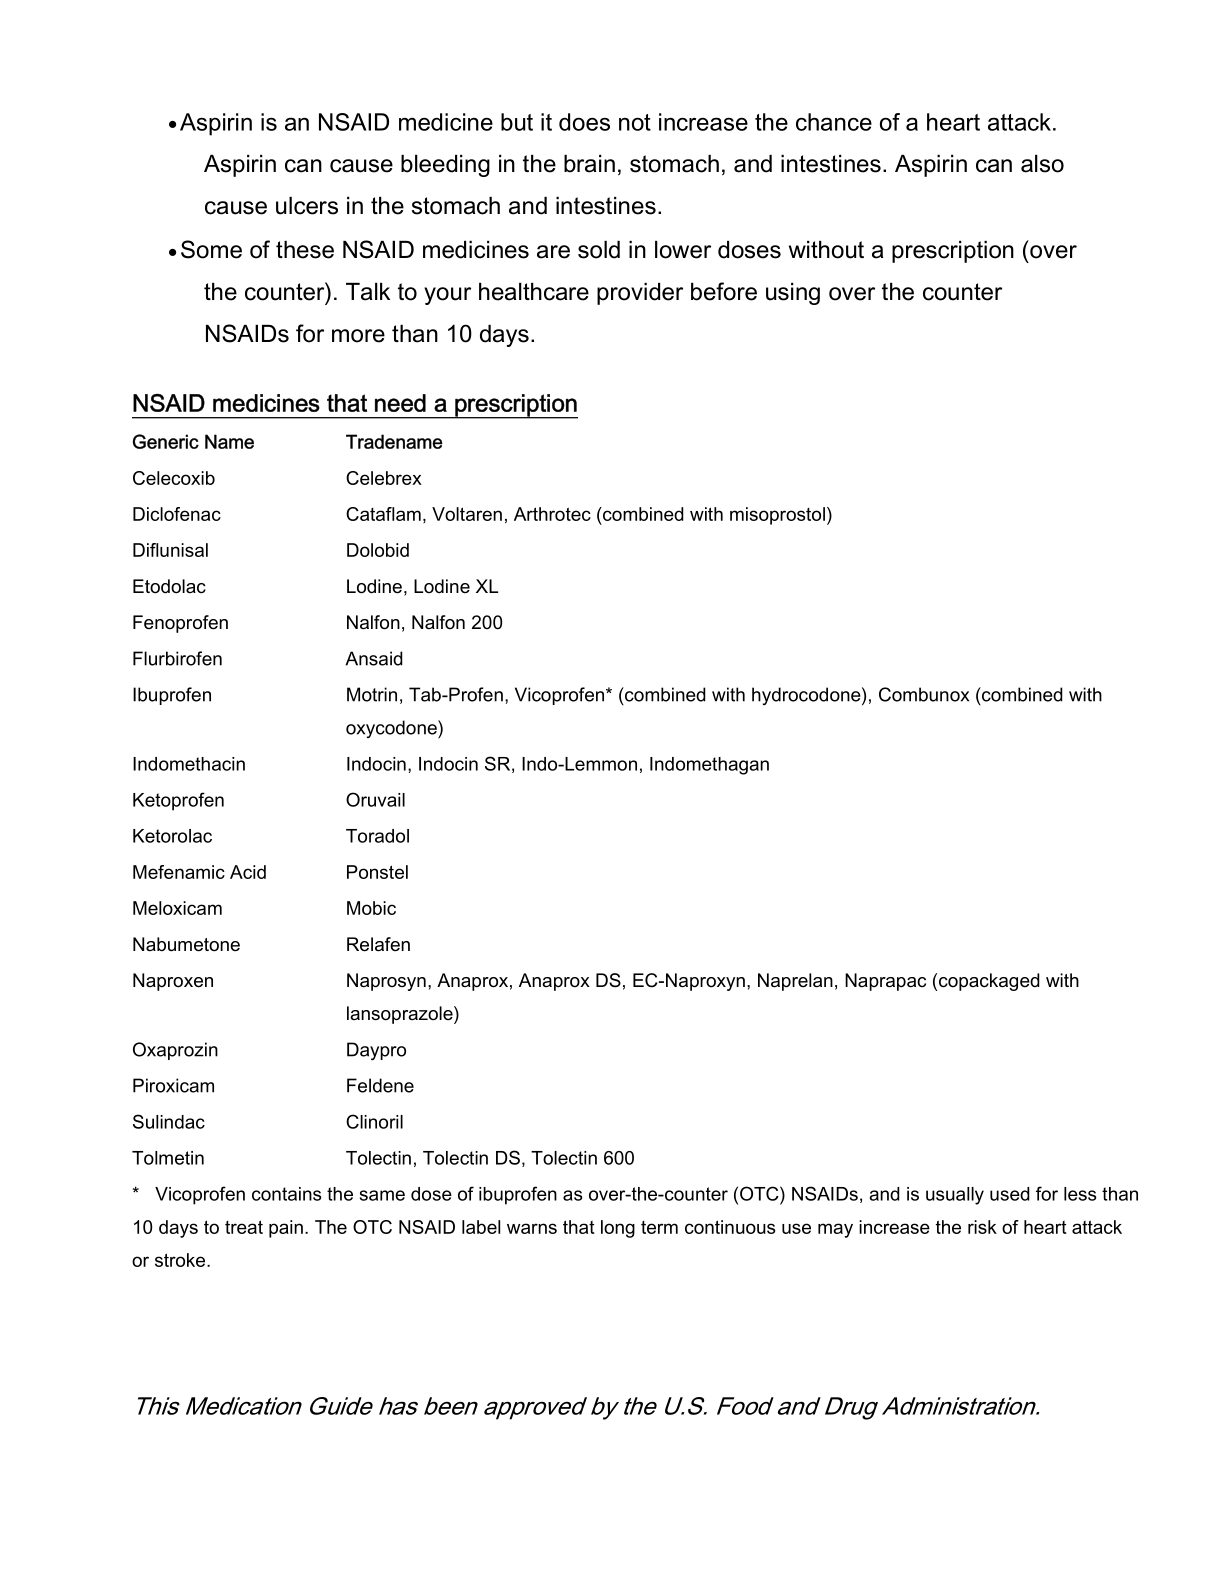nolines: (126, 429, 1106, 1169)
